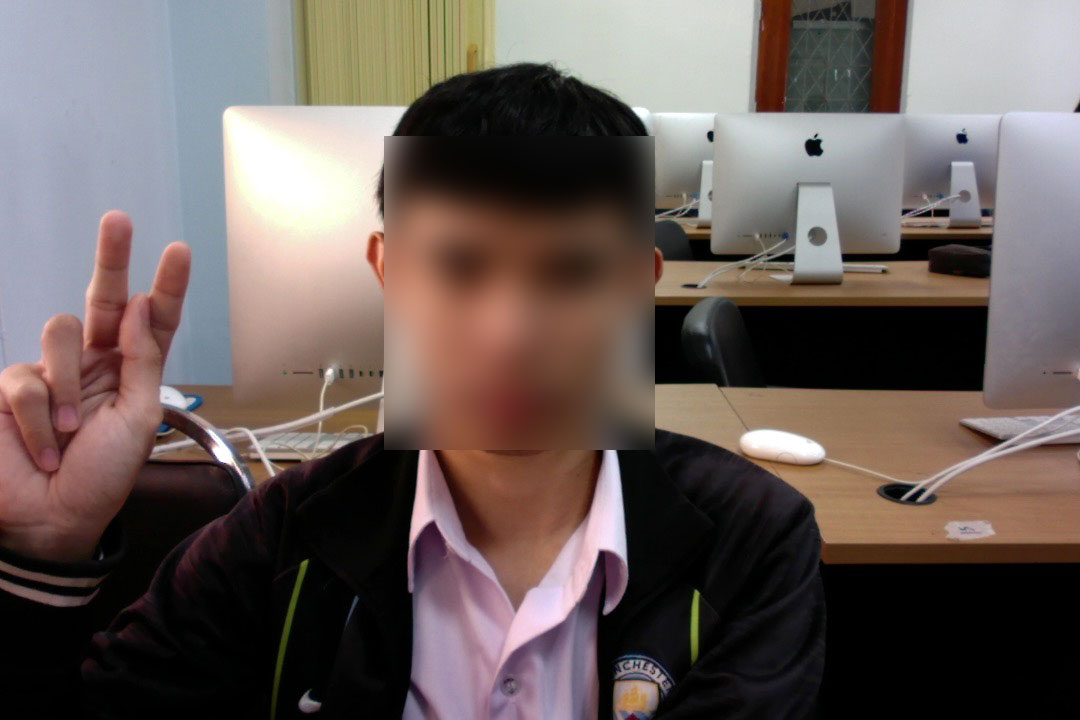ko: (0, 202, 221, 573)
